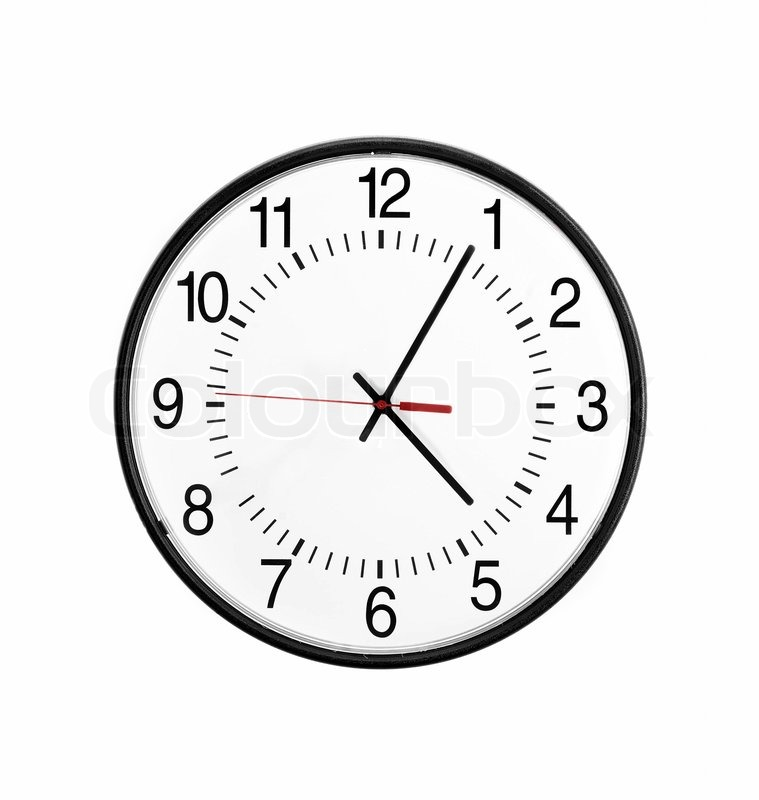clock: (130, 150, 632, 658)
